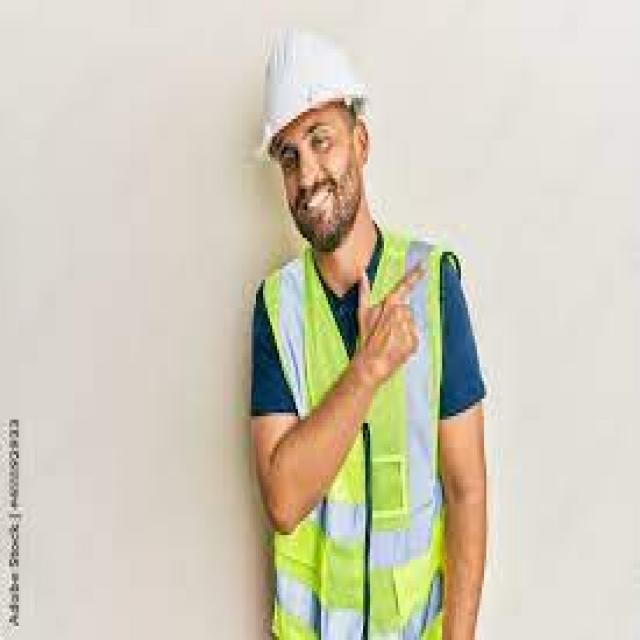Reflective-Jacket: (256, 231, 465, 629)
Safety-Helmet: (251, 24, 382, 154)
